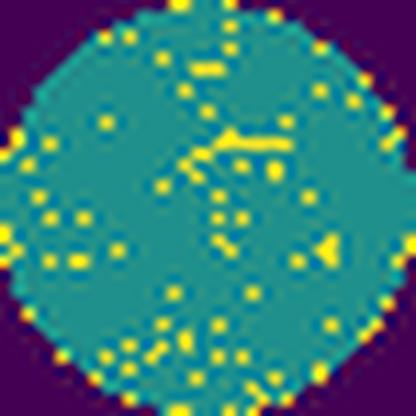Scratch: (172, 126, 298, 186)
